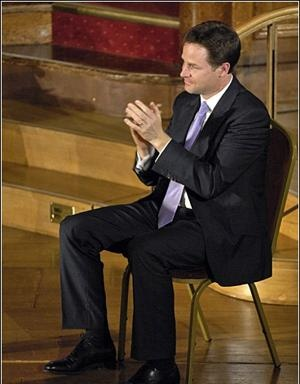person without safety: (125, 19, 278, 200)
